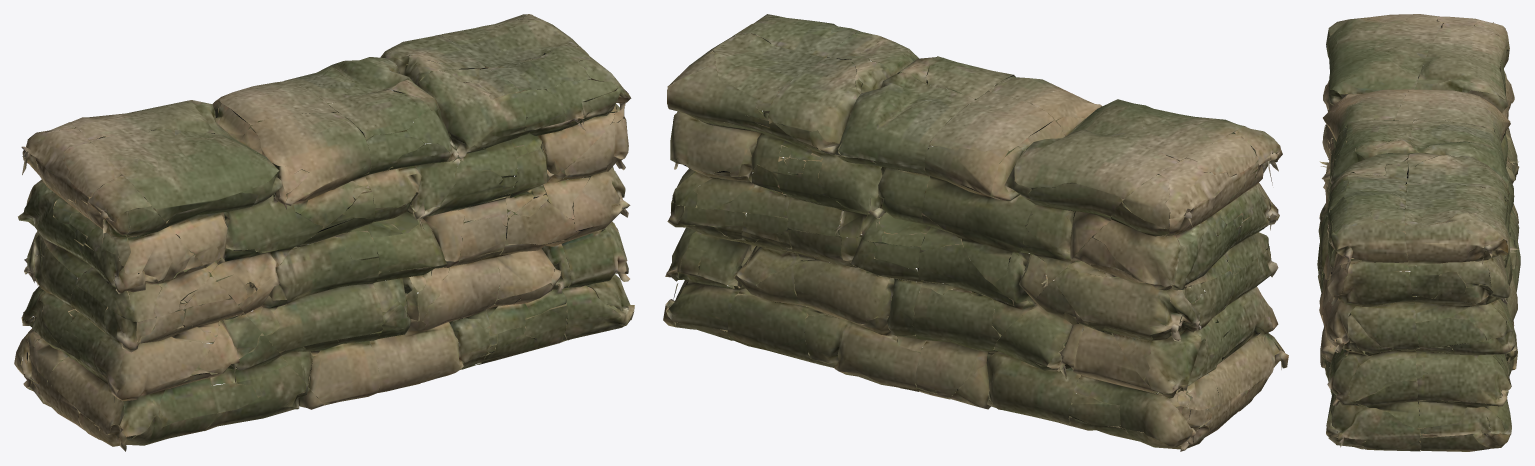
File: prop_sandbags.glb
3 views of the same model, side by side, from view 1: azimuth 30°, elevation 25°; view 2: azimuth 150°, elevation 25°; view 3: azimuth 270°, elevation 25° (orthographic). The views are drawn at different scales.
Visible parts, largest first — view 1: prop_sandbags; view 2: prop_sandbags; view 3: prop_sandbags.
Part boxes in pixels (x1,y1,x2,y2): prop_sandbags: (14,14,634,451); prop_sandbags: (663,14,1288,451); prop_sandbags: (1317,14,1520,451).
Bounding box in the file's own units: 2 × 1 × 0.7679.
1 material, 1 textured.
